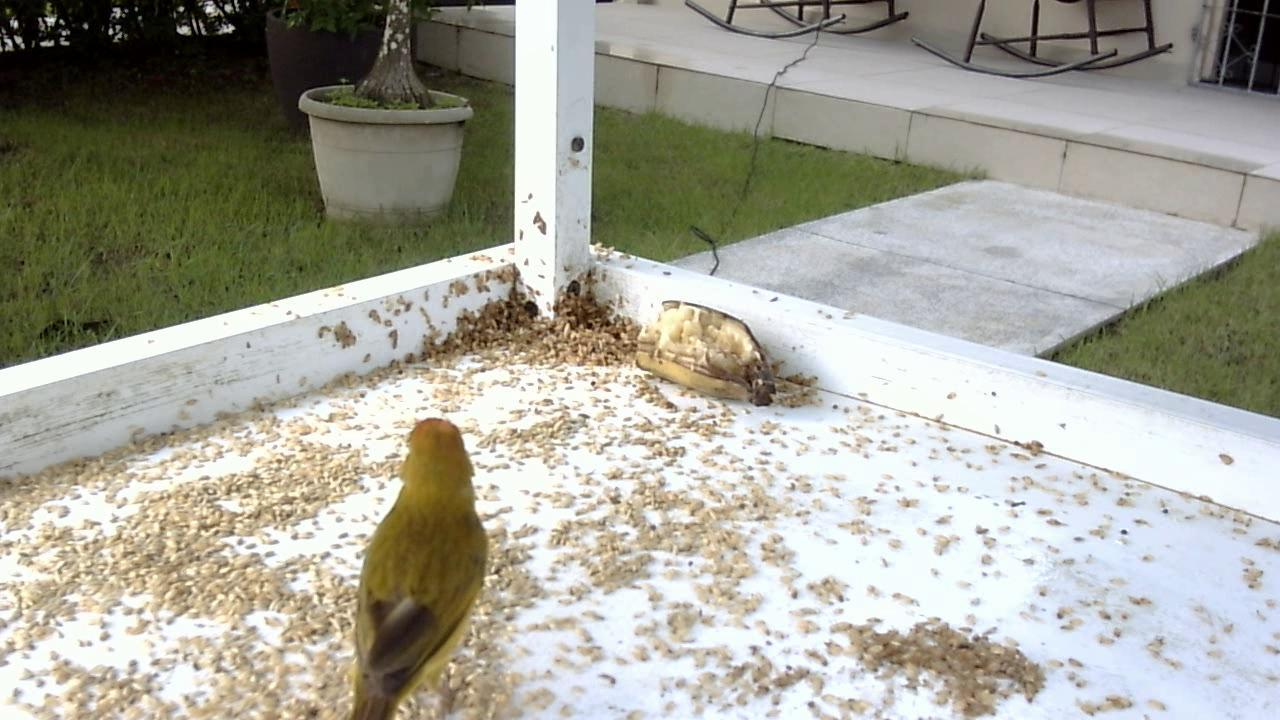canario_do_amazonas: (338, 408, 502, 713)
